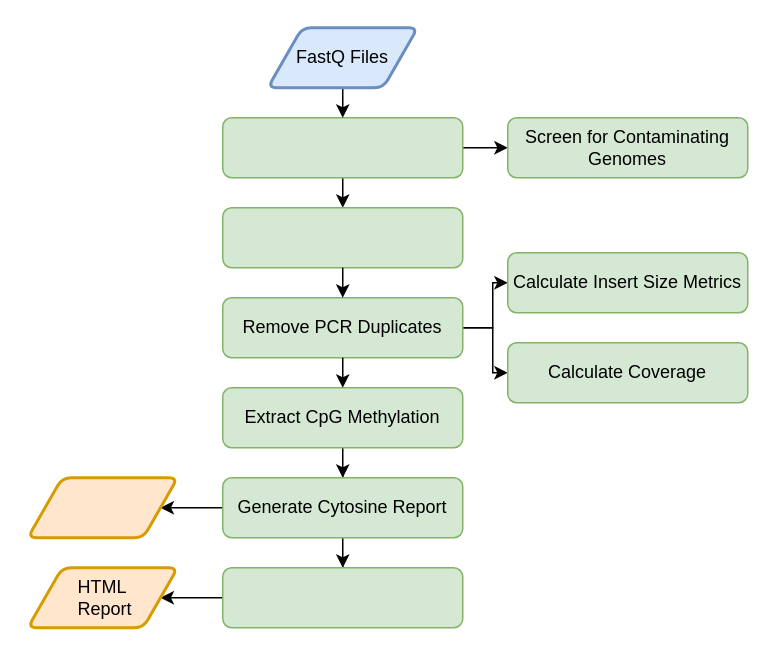
This 774x654 diagram has some shape labels left out. The shapes that lost their labels are listed below. From the top down, each one's centre as x and y in pixels, then its label:
At pixel 342 147: "Trim Adapters and Methylation Bias".
At pixel 342 237: "Align to Reference Genome".
At pixel 102 507: "CpG Count Matrix".
At pixel 342 597: "Summarize Quality Control and Quality Analysis Metrics".
